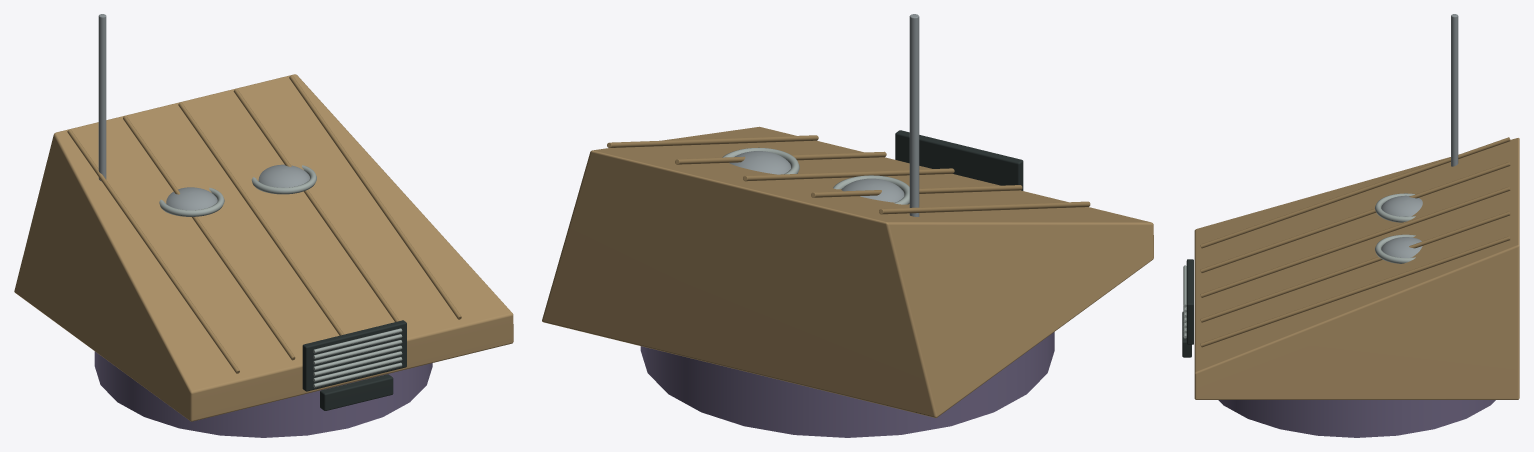
3 renders of one model, left to right at view 1: azimuth 30°, elevation 25°; view 2: azimuth 150°, elevation 25°; view 3: azimuth 270°, elevation 25°, orthographic. The views are drawn at different scales.
Visible parts, largest first — view 1: Sloping industrial housing, Foundation drum, Seismic cooling grille recessed housing, Seismic sensor aperture, Seismic roof standing seam.004, Seismic roof standing seam, Seismic roof standing seam.002, Aerial stem, Seismic roof standing seam.001, Seismic roof standing seam.003, Housing top service hatch.001, Housing top service hatch (+2 smaller); view 2: Sloping industrial housing, Foundation drum, Seismic cooling grille recessed housing, Aerial stem, Seismic roof standing seam, Seismic roof standing seam.004, Seismic roof standing seam.002, Seismic roof standing seam.001, Seismic roof standing seam.003, Housing top service hatch.001, Housing top service hatch; view 3: Sloping industrial housing, Foundation drum, Seismic roof standing seam.004, Seismic roof standing seam.002, Seismic roof standing seam, Seismic roof standing seam.003, Seismic roof standing seam.001, Aerial stem, Housing top service hatch, Seismic cooling grille recessed housing, Housing top service hatch.001, Seismic service hatch clamp.001 (+1 smaller).
Part boxes in pixels (bbox=[...]): Sloping industrial housing: bbox=[14, 74, 513, 421]; Foundation drum: bbox=[94, 351, 432, 437]; Seismic cooling grille recessed housing: bbox=[302, 320, 406, 391]; Seismic sensor aperture: bbox=[320, 374, 393, 410]; Seismic roof standing seam.004: bbox=[289, 75, 461, 319]; Seismic roof standing seam: bbox=[67, 129, 239, 373]; Seismic roof standing seam.002: bbox=[178, 102, 343, 335]; Aerial stem: bbox=[98, 14, 106, 181]; Seismic roof standing seam.001: bbox=[123, 116, 295, 360]; Seismic roof standing seam.003: bbox=[233, 89, 399, 321]; Housing top service hatch.001: bbox=[258, 164, 309, 187]; Housing top service hatch: bbox=[166, 187, 217, 210]; Sloping industrial housing: bbox=[542, 126, 1153, 417]; Foundation drum: bbox=[640, 332, 1054, 437]; Seismic cooling grille recessed housing: bbox=[895, 130, 1023, 190]; Aerial stem: bbox=[909, 14, 919, 216]; Seismic roof standing seam: bbox=[879, 201, 1090, 214]; Seismic roof standing seam.004: bbox=[607, 135, 818, 147]; Seismic roof standing seam.002: bbox=[743, 168, 954, 181]; Seismic roof standing seam.001: bbox=[811, 185, 1022, 197]; Seismic roof standing seam.003: bbox=[675, 151, 886, 164]; Housing top service hatch.001: bbox=[729, 151, 790, 174]; Housing top service hatch: bbox=[841, 178, 904, 202]; Sloping industrial housing: bbox=[1194, 138, 1519, 399]; Foundation drum: bbox=[1218, 400, 1495, 437]; Seismic roof standing seam.004: bbox=[1200, 236, 1510, 347]; Seismic roof standing seam.002: bbox=[1200, 187, 1510, 297]; Seismic roof standing seam: bbox=[1200, 137, 1510, 248]; Seismic roof standing seam.003: bbox=[1200, 211, 1510, 322]; Seismic roof standing seam.001: bbox=[1200, 162, 1510, 272]; Aerial stem: bbox=[1451, 14, 1458, 166]; Housing top service hatch: bbox=[1381, 195, 1422, 216]; Seismic cooling grille recessed housing: bbox=[1186, 259, 1193, 344]; Housing top service hatch.001: bbox=[1381, 237, 1422, 257]; Seismic service hatch clamp.001: bbox=[1375, 234, 1415, 263].
Bounding box in the file's own units: 2.1 × 2.1 × 2.07.
